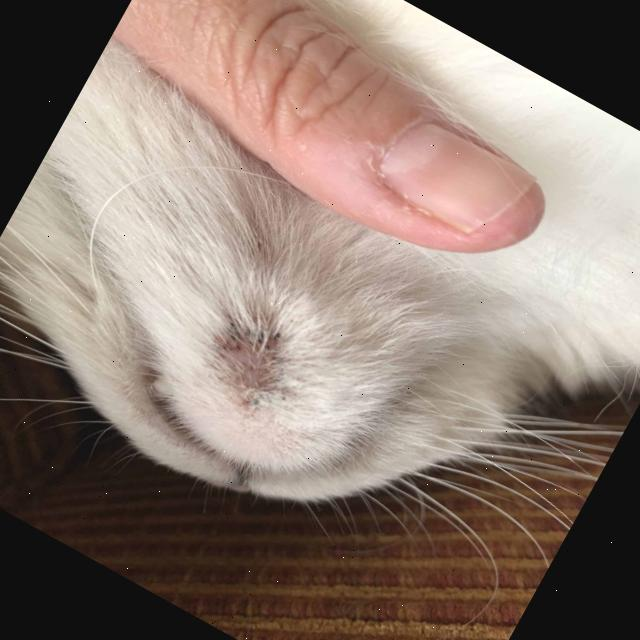cat-acne: (192, 306, 301, 416)
